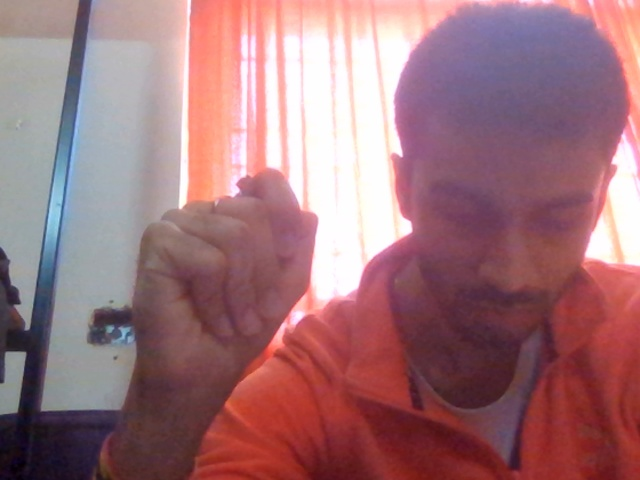T: (92, 131, 341, 461)
